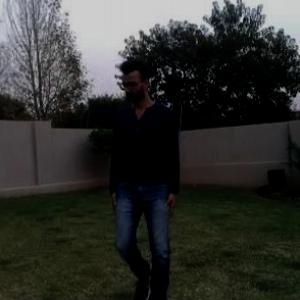follow: (103, 55, 182, 299)
